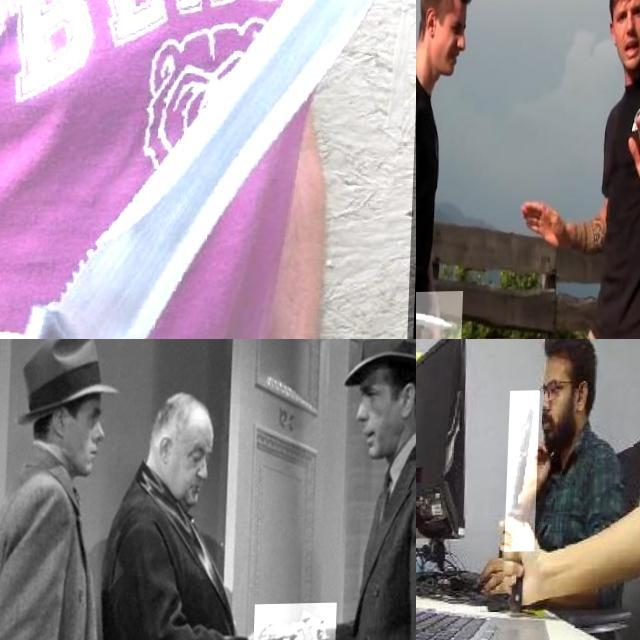-: (0, 0, 416, 339), (508, 392, 543, 554), (416, 292, 466, 339)
gun-knife-thesis - v11 Yolov5 augmented: (255, 604, 339, 640)
